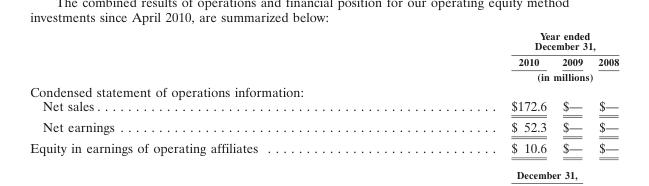table: (29, 29, 618, 155)
table column: (29, 29, 383, 155), (383, 29, 553, 155), (553, 29, 589, 155), (589, 29, 618, 155)
table column header: (29, 29, 618, 83)
table projected row header: (29, 83, 618, 98)
table row: (29, 29, 618, 53), (29, 115, 618, 136), (29, 136, 618, 155), (29, 98, 618, 115), (29, 53, 618, 68), (29, 68, 618, 83), (29, 83, 618, 98)
table spanning cell: (383, 29, 618, 53), (383, 68, 618, 83)
